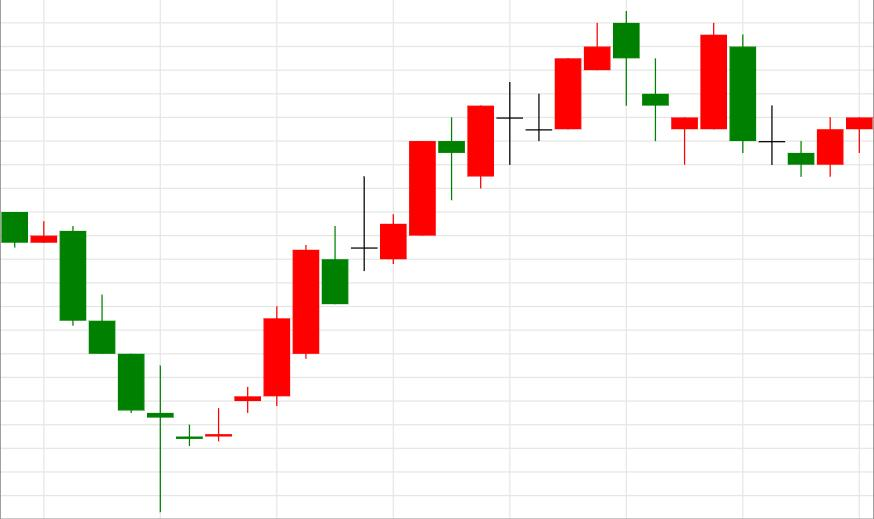hanging_man_fall: (205, 12, 640, 441)
